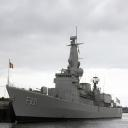Fragata: (7, 26, 124, 125)
